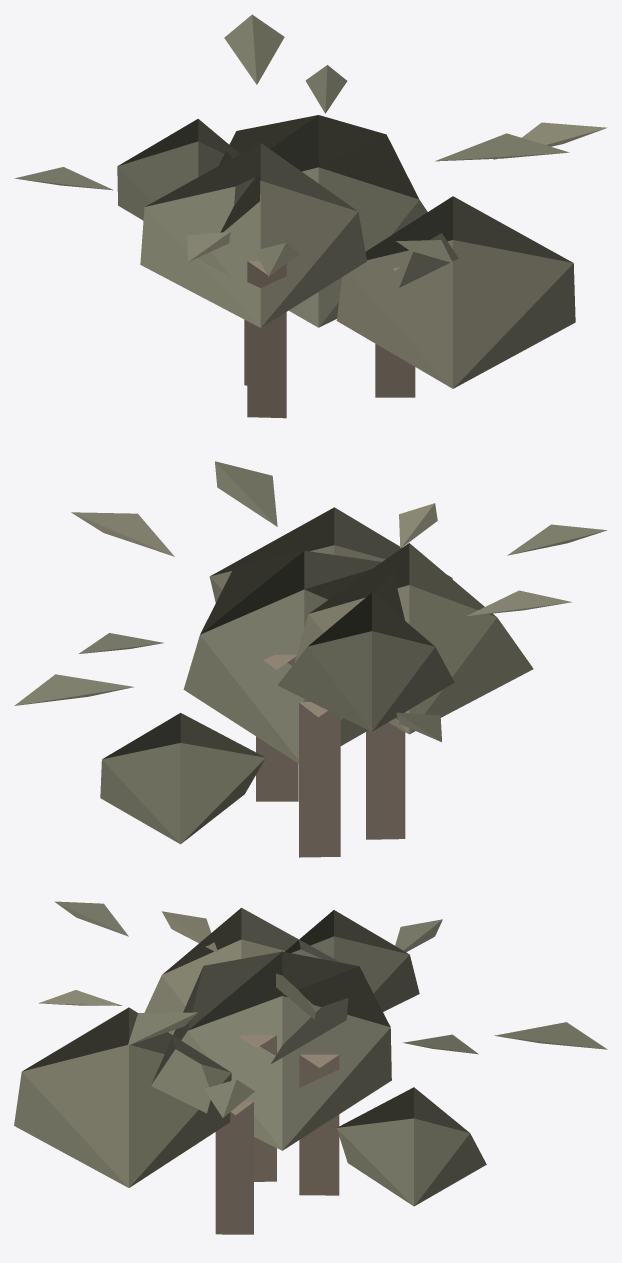
The model's file is guan.zhizi@subadult__winter.glb.
3 views of the same model, one above another, from view 1: azimuth 30°, elevation 25°; view 2: azimuth 150°, elevation 25°; view 3: azimuth 270°, elevation 25° (orthographic). The views are drawn at different scales.
Visible parts, largest first — view 1: guan.zhizi@subadult__winter; view 2: guan.zhizi@subadult__winter; view 3: guan.zhizi@subadult__winter.
Part boxes in pixels (box(x1,y1,x2,y2)): guan.zhizi@subadult__winter: box(14, 14, 607, 418); guan.zhizi@subadult__winter: box(14, 461, 606, 857); guan.zhizi@subadult__winter: box(14, 901, 607, 1234).
Bounding box in the file's own units: 1.38 × 0.8008 × 1.59.
